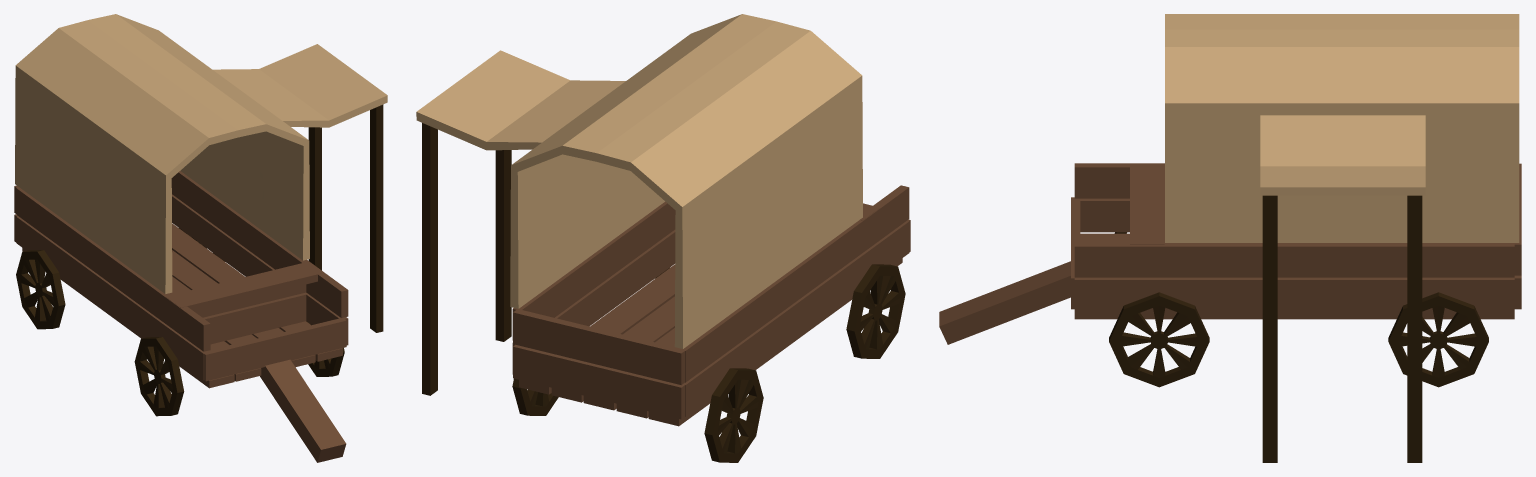
Rendered from Wagon.fbx.
3 views of the same model, side by side, from view 1: azimuth 30°, elevation 25°; view 2: azimuth 150°, elevation 25°; view 3: azimuth 270°, elevation 25° (orthographic). The views are drawn at different scales.
Parts seen in each view (by area): view 1: Nakrycie otwarte, Woz, Nakrycie zamkniete, pal.001, Kolo.001, Kolo, pal, Kolo.003; view 2: Nakrycie otwarte, Woz, Nakrycie zamkniete, pal, Kolo, Kolo.001, pal.001, Kolo.002; view 3: Nakrycie otwarte, Woz, Nakrycie zamkniete, Kolo.003, Kolo.002, pal, pal.001.
Part boxes in pixels (x1=…): Nakrycie otwarte: x1=15, y1=14, x2=387, y2=293; Woz: x1=14, y1=171, x2=348, y2=462; Nakrycie zamkniete: x1=192, y1=132, x2=262, y2=230; pal.001: x1=370, y1=104, x2=383, y2=332; Kolo.001: x1=16, y1=250, x2=65, y2=329; Kolo: x1=134, y1=337, x2=184, y2=416; pal: x1=308, y1=127, x2=321, y2=270; Kolo.003: x1=306, y1=321, x2=344, y2=376; Nakrycie otwarte: x1=416, y1=14, x2=862, y2=348; Woz: x1=512, y1=185, x2=910, y2=426; Nakrycie zamkniete: x1=565, y1=155, x2=650, y2=273; pal: x1=422, y1=123, x2=437, y2=395; Kolo: x1=846, y1=264, x2=905, y2=358; Kolo.001: x1=704, y1=368, x2=763, y2=462; pal.001: x1=495, y1=150, x2=511, y2=341; Kolo.002: x1=512, y1=378, x2=558, y2=415; Nakrycie otwarte: x1=1165, y1=14, x2=1519, y2=242; Woz: x1=939, y1=163, x2=1521, y2=344; Nakrycie zamkniete: x1=1260, y1=195, x2=1425, y2=242; Kolo.003: x1=1109, y1=292, x2=1209, y2=387; Kolo.002: x1=1388, y1=292, x2=1488, y2=387; pal: x1=1407, y1=195, x2=1422, y2=462; pal.001: x1=1262, y1=195, x2=1277, y2=462.
Bounding box in the file's own units: 469 × 452 × 732.
1 material, 1 textured.
